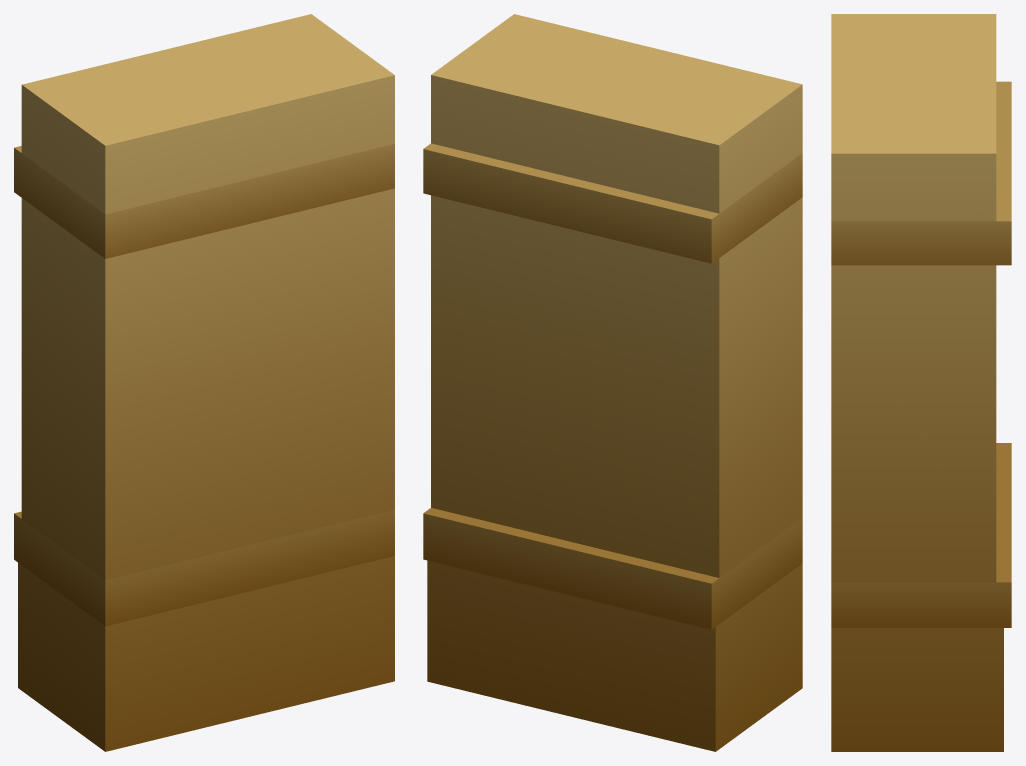
File: Enviroment__Wall_003.fbx
3 renders of one model, left to right at view 1: azimuth 30°, elevation 25°; view 2: azimuth 150°, elevation 25°; view 3: azimuth 270°, elevation 25°, orthographic.
Parts seen in each view (by area): view 1: Cube.012; view 2: Cube.012; view 3: Cube.012.
Part boxes in pixels (x1,y1,x2,y2): Cube.012: (14, 14, 394, 751); Cube.012: (423, 14, 802, 751); Cube.012: (831, 14, 1011, 751).
Size of the model in its own units: 20 by 40 by 10.93.
